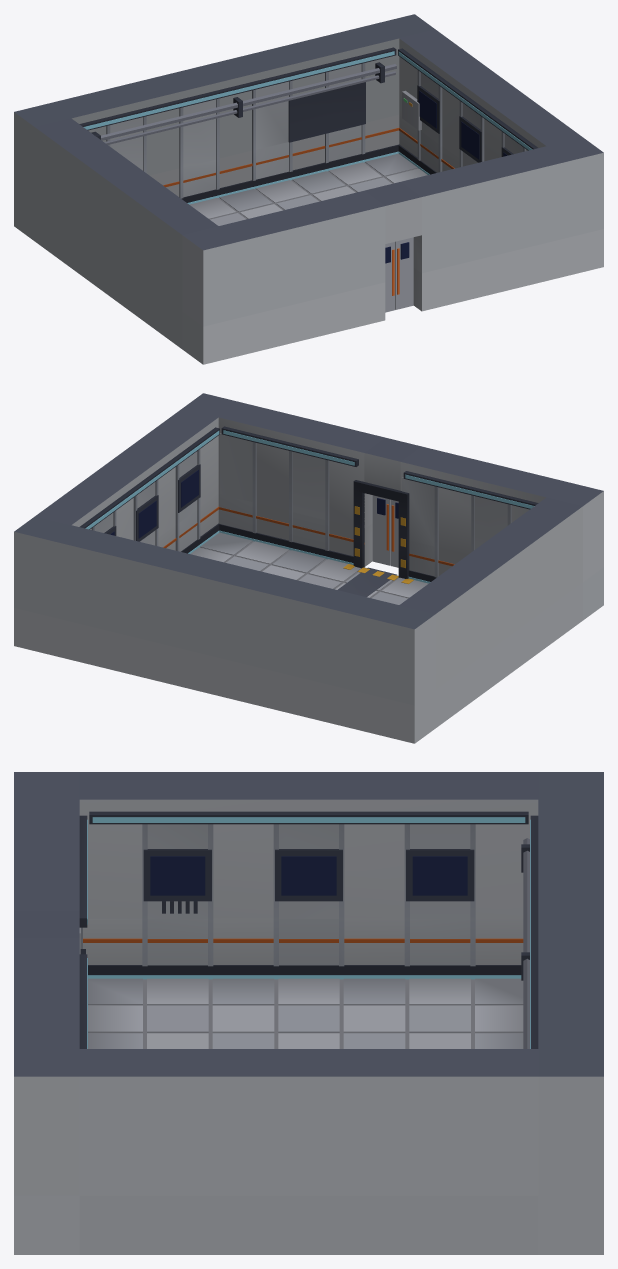
File: habitat_interior.glb
3 renders of one model, top to bottom at view 1: azimuth 30°, elevation 25°; view 2: azimuth 150°, elevation 25°; view 3: azimuth 270°, elevation 25°, orthographic. The views are drawn at different scales.
Parts seen in each view (by area): view 1: wall_s_hi, wall_n_hi, wall_w_hi, wall_s_lo, wall_e_hi, wall_n_lo, floor, wall_w_lo, wall_e_lo, lit_wall_n_hi, door_in_r, glow_wall_e_hi (+3 smaller); view 2: wall_n_hi, wall_s_hi, wall_w_hi, wall_n_lo, wall_e_hi, wall_s_lo, floor, wall_w_lo, wall_e_lo, door_in_r, lit_wall_s_hi, glow_wall_e_hi (+2 smaller); view 3: wall_e_hi, wall_w_hi, wall_n_hi, floor, wall_s_hi, wall_e_lo, wall_w_lo, glow_wall_w_hi, wall_n_lo, wall_s_lo, lit_wall_w_hi, lit_wall_w_lo.
Part boxes in pixels (x1,y1,x2,y2): wall_s_hi: (182,137,603,326); wall_n_hi: (14,14,435,203); wall_w_hi: (35,118,218,310); wall_s_lo: (182,229,603,364); wall_e_hi: (398,29,582,165); wall_n_lo: (14,115,399,241); floor: (189,153,427,225); wall_w_lo: (35,204,182,348); wall_e_lo: (398,115,467,174); lit_wall_n_hi: (83,51,394,129); door_in_r: (395,237,413,309); glow_wall_e_hi: (419,90,507,159); wall_n_hi: (14,516,435,705); wall_s_hi: (182,393,603,582); wall_w_hi: (399,497,582,689); wall_n_lo: (14,608,435,743); wall_e_hi: (35,408,219,544); wall_s_lo: (218,494,603,620); floor: (190,532,428,604); wall_w_lo: (435,583,582,727); wall_e_lo: (150,494,219,553); door_in_r: (372,495,390,565); lit_wall_s_hi: (223,430,534,508); glow_wall_e_hi: (110,469,198,538); wall_e_hi: (79,1049,538,1195); wall_w_hi: (79,772,538,919); wall_n_hi: (521,772,603,1195); floor: (88,978,523,1048); wall_s_hi: (14,772,87,1195); wall_e_lo: (79,1195,538,1254); wall_w_lo: (83,918,523,975); glow_wall_w_hi: (150,856,467,895); wall_n_lo: (538,1195,603,1254); wall_s_lo: (14,1195,79,1254); lit_wall_w_hi: (92,817,525,822); lit_wall_w_lo: (88,975,521,979).
Bounding box in the file's own units: 11 × 3.1 × 9.
